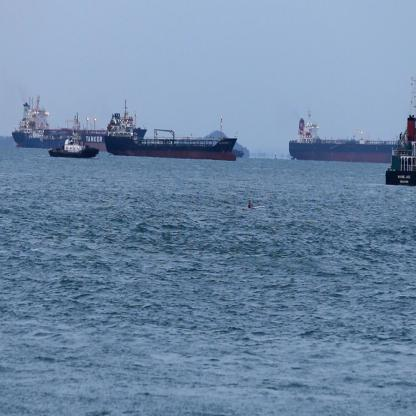Container Ship: (106, 98, 238, 161), (288, 107, 400, 163), (11, 94, 108, 151), (231, 147, 245, 159)
